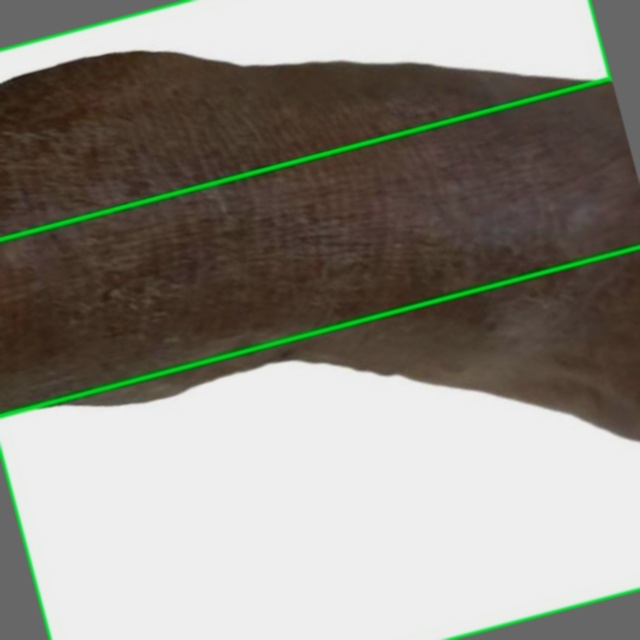Contact Dermatitis: (0, 247, 639, 639), (0, 0, 611, 239)
